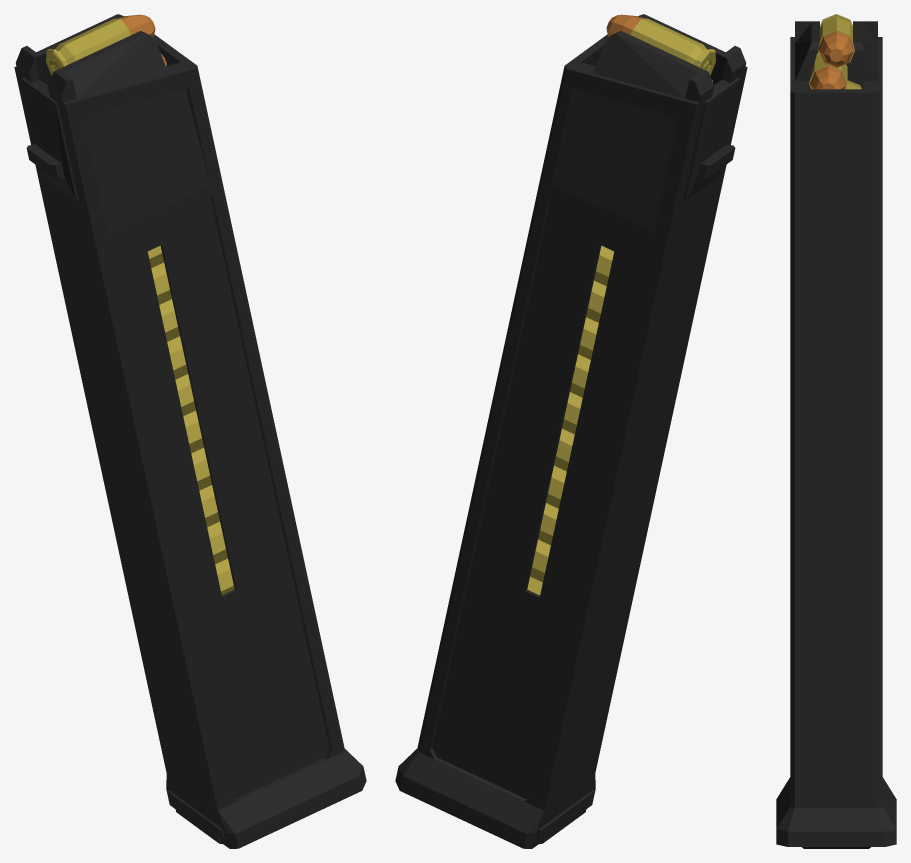
File: hk_ump_45_magazine.glb
3 views of the same model, side by side, from view 1: azimuth 30°, elevation 25°; view 2: azimuth 150°, elevation 25°; view 3: azimuth 270°, elevation 25° (orthographic). The views are drawn at different scales.
Visible parts, largest first — view 1: ump45 30rnd mag_2 (×2); view 2: ump45 30rnd mag_2 (×2); view 3: ump45 30rnd mag_2 (×3).
Boxes of the visible parts, x1,y1,x2,y2 form: ump45 30rnd mag_2 (×2): (14,14,366,848); ump45 30rnd mag_2 (×2): (395,14,747,848); ump45 30rnd mag_2 (×3): (776,14,896,848).
Bounding box in the file's own units: 0.9819 × 2.59 × 0.3751.
